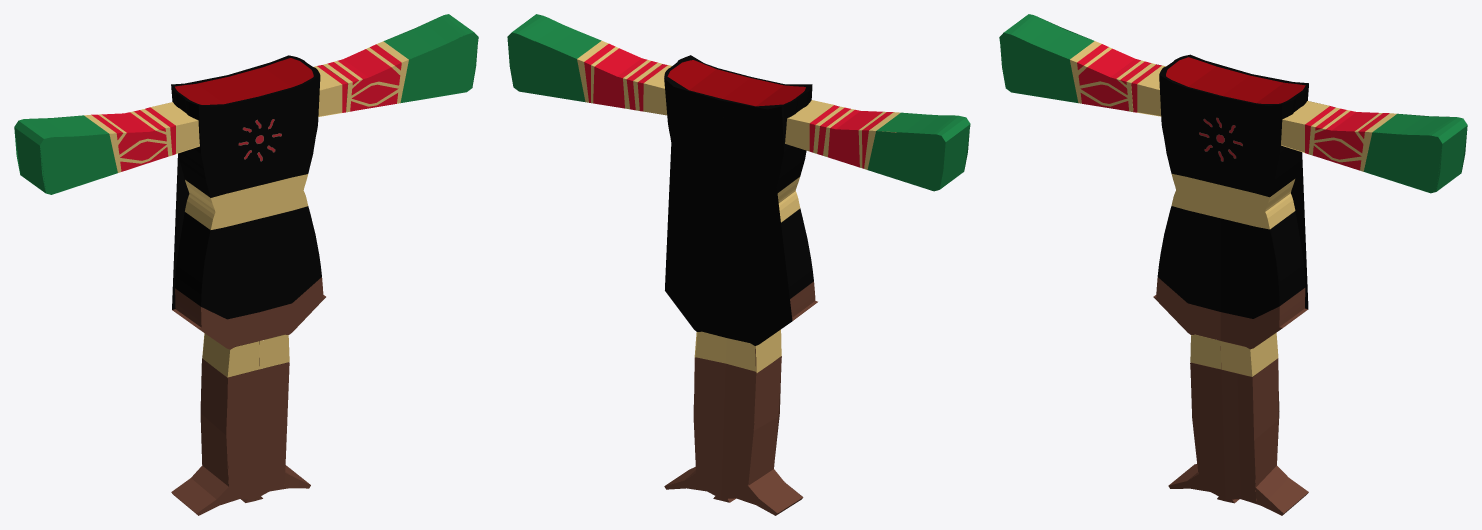
The model's file is masmorra6_3D.fbx.
The picture shows the model from 3 angles, left to right: view 1: azimuth 30°, elevation 25°; view 2: azimuth 150°, elevation 25°; view 3: azimuth 330°, elevation 25°; orthographic projection.
Parts seen in each view (by area): view 1: Plano, Plano.002, Plano.008, Plano.003, Plano.006, Plane.001, Plano.010, Plano.001, Plano.004; view 2: Plano, Plano.002, Plano.006, Plane.001, Plano.010; view 3: Plano, Plano.002, Plano.008, Plano.003, Plano.006, Plane, Plano.010, Plano.001, Plano.004.
Part boxes in pixels (left/top/right/bottom): Plano: left=171, top=55, right=325, bottom=514; Plano.002: left=14, top=19, right=471, bottom=194; Plano.008: left=197, top=362, right=289, bottom=515; Plano.003: left=40, top=32, right=478, bottom=194; Plano.006: left=14, top=14, right=478, bottom=192; Plane.001: left=171, top=358, right=228, bottom=513; Plano.010: left=202, top=333, right=289, bottom=377; Plano.001: left=237, top=111, right=283, bottom=170; Plano.004: left=176, top=84, right=342, bottom=153; Plano: left=664, top=55, right=817, bottom=515; Plano.002: left=507, top=32, right=963, bottom=191; Plano.006: left=512, top=14, right=970, bottom=189; Plane.001: left=748, top=356, right=802, bottom=513; Plano.010: left=694, top=329, right=781, bottom=372; Plano: left=1153, top=54, right=1308, bottom=515; Plano.002: left=1010, top=16, right=1467, bottom=192; Plano.008: left=1168, top=362, right=1256, bottom=503; Plano.003: left=999, top=32, right=1442, bottom=193; Plano.006: left=999, top=14, right=1467, bottom=191; Plane: left=1252, top=358, right=1308, bottom=513; Plano.010: left=1190, top=332, right=1278, bottom=376; Plano.001: left=1198, top=110, right=1244, bottom=169; Plano.004: left=1137, top=84, right=1304, bottom=152.
Size of the model in its own units: 476 by 434 by 65.13.
